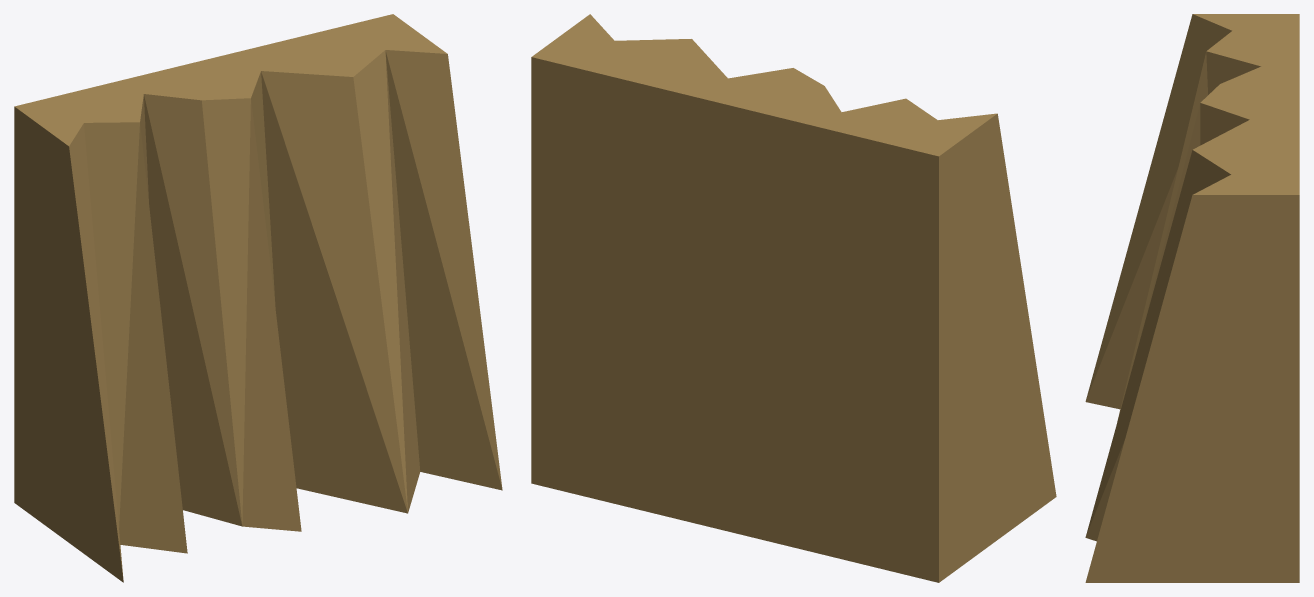
File: Terrain_Tile_Dirt_Cliff_Face_Angled_01.fbx
The picture shows the model from 3 angles, left to right: view 1: azimuth 30°, elevation 25°; view 2: azimuth 150°, elevation 25°; view 3: azimuth 270°, elevation 25°; orthographic projection. The views are drawn at different scales.
Visible parts, largest first — view 1: Terrain_Tile_Dirt_Cliff_Face_Angled_01; view 2: Terrain_Tile_Dirt_Cliff_Face_Angled_01; view 3: Terrain_Tile_Dirt_Cliff_Face_Angled_01.
Boxes of the visible parts, <box> form: Terrain_Tile_Dirt_Cliff_Face_Angled_01: <box>14,14,502,582</box>; Terrain_Tile_Dirt_Cliff_Face_Angled_01: <box>531,14,1056,582</box>; Terrain_Tile_Dirt_Cliff_Face_Angled_01: <box>1085,14,1299,582</box>.
Size of the model in its own units: 126 by 126 by 62.99.
